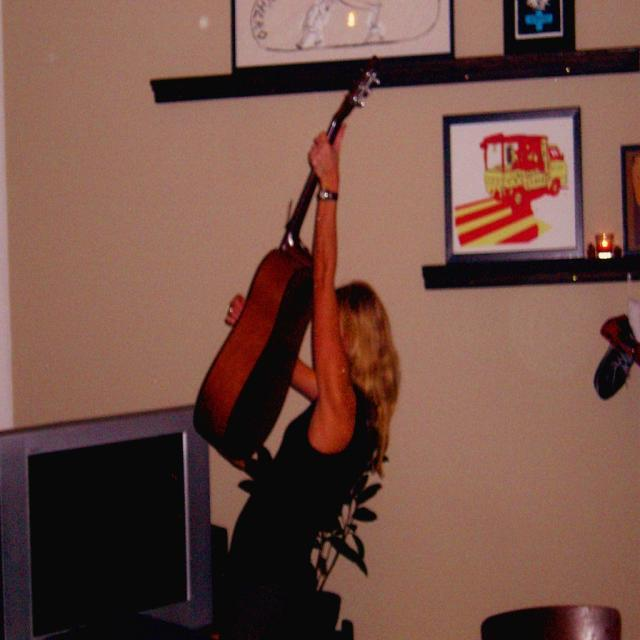guitar: (192, 52, 386, 458)
